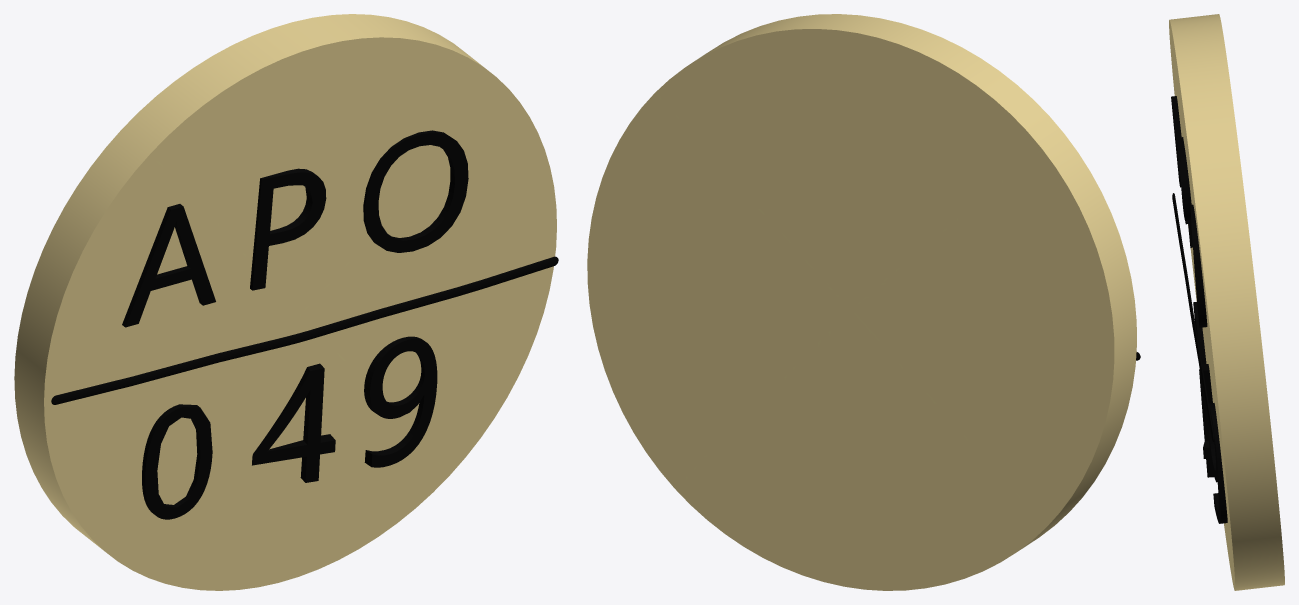
File: Vasotec.fbx
3 renders of one model, left to right at view 1: azimuth 30°, elevation 25°; view 2: azimuth 150°, elevation 25°; view 3: azimuth 270°, elevation 25°, orthographic. The views are drawn at different scales.
Parts seen in each view (by area): view 1: node_id157, node_id158, node_id152, node_id191, node_id177, node_id132, node_id166, node_id143; view 2: node_id157; view 3: node_id157, node_id191, node_id158, node_id152, node_id177, node_id143, node_id132, node_id166.
Boxes of the visible parts, left/top/right/bottom form: node_id157: left=14, top=14, right=556, bottom=590; node_id158: left=51, top=256, right=558, bottom=404; node_id152: left=363, top=130, right=468, bottom=252; node_id191: left=364, top=336, right=437, bottom=467; node_id177: left=252, top=363, right=335, bottom=482; node_id132: left=122, top=204, right=215, bottom=327; node_id166: left=142, top=404, right=212, bottom=519; node_id143: left=250, top=168, right=326, bottom=290; node_id157: left=587, top=14, right=1136, bottom=590; node_id157: left=1169, top=14, right=1284, bottom=590; node_id191: left=1206, top=403, right=1227, bottom=523; node_id158: left=1172, top=193, right=1214, bottom=442; node_id152: left=1190, top=204, right=1207, bottom=327; node_id177: left=1199, top=364, right=1214, bottom=477; node_id143: left=1180, top=137, right=1192, bottom=247; node_id132: left=1171, top=96, right=1187, bottom=224; node_id166: left=1193, top=302, right=1206, bottom=363.
Bounding box in the file's own units: 0.8498 × 0.8501 × 0.1709.
8 materials, 8 textured.
